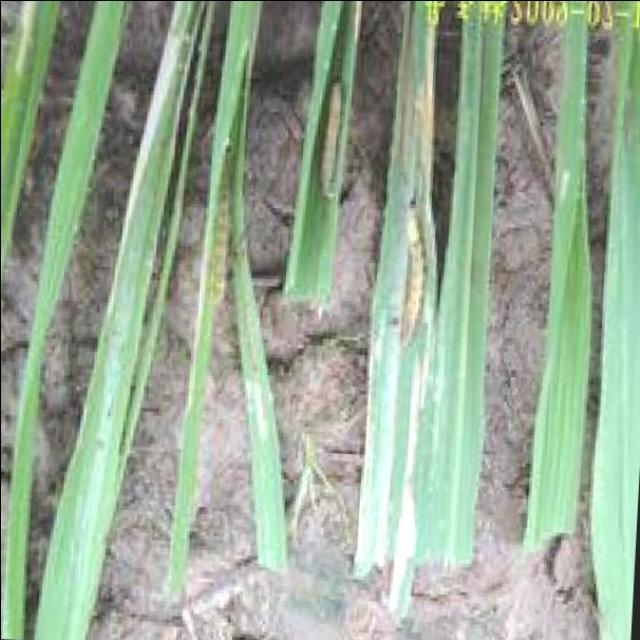leaf folder: (399, 209, 422, 342), (209, 192, 232, 307), (320, 82, 339, 195)
